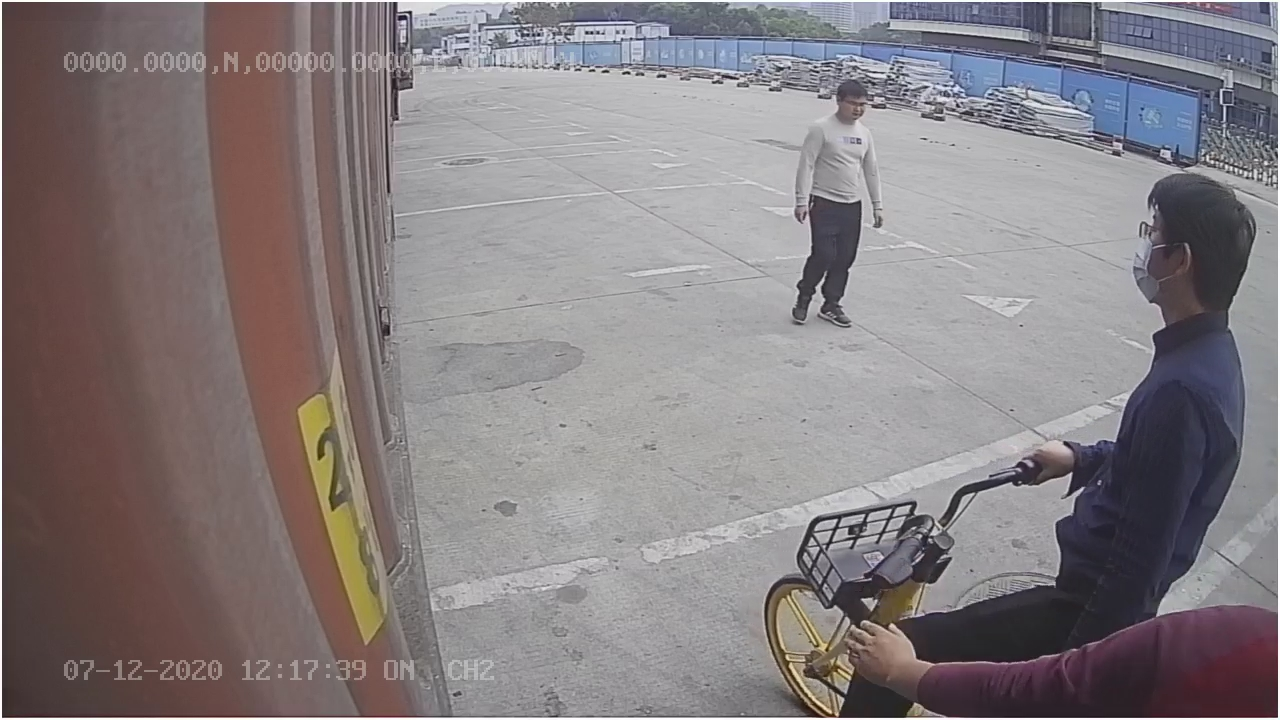person: (790, 77, 883, 334)
